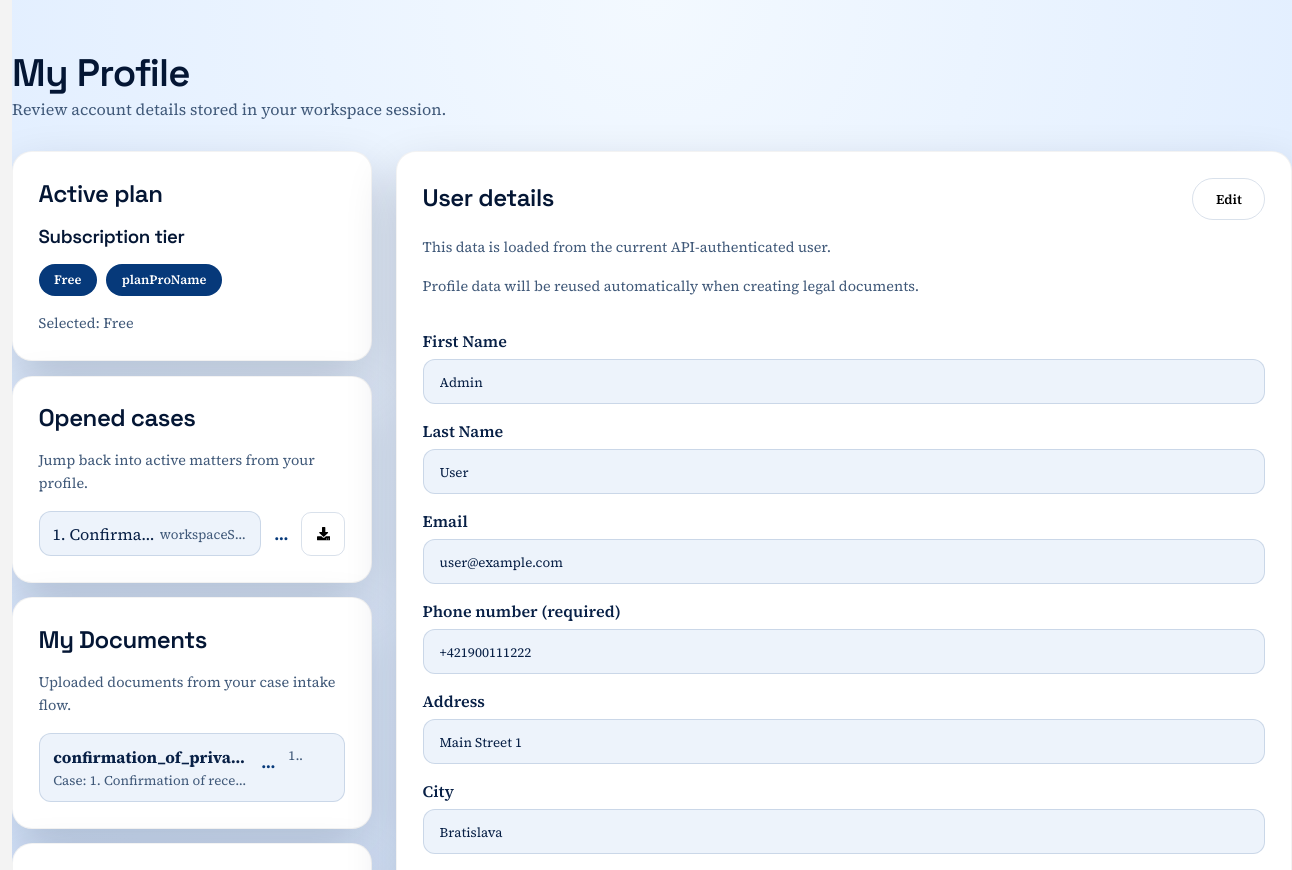
Test: Profile page › downloads a case export without opening the case
The width and height of the screenshot is (1292, 870).
What coordinates should you click on to do the following:
click the button named "Export case"
I would click on:
 (323, 534)
Its box is [301,512,345,556].
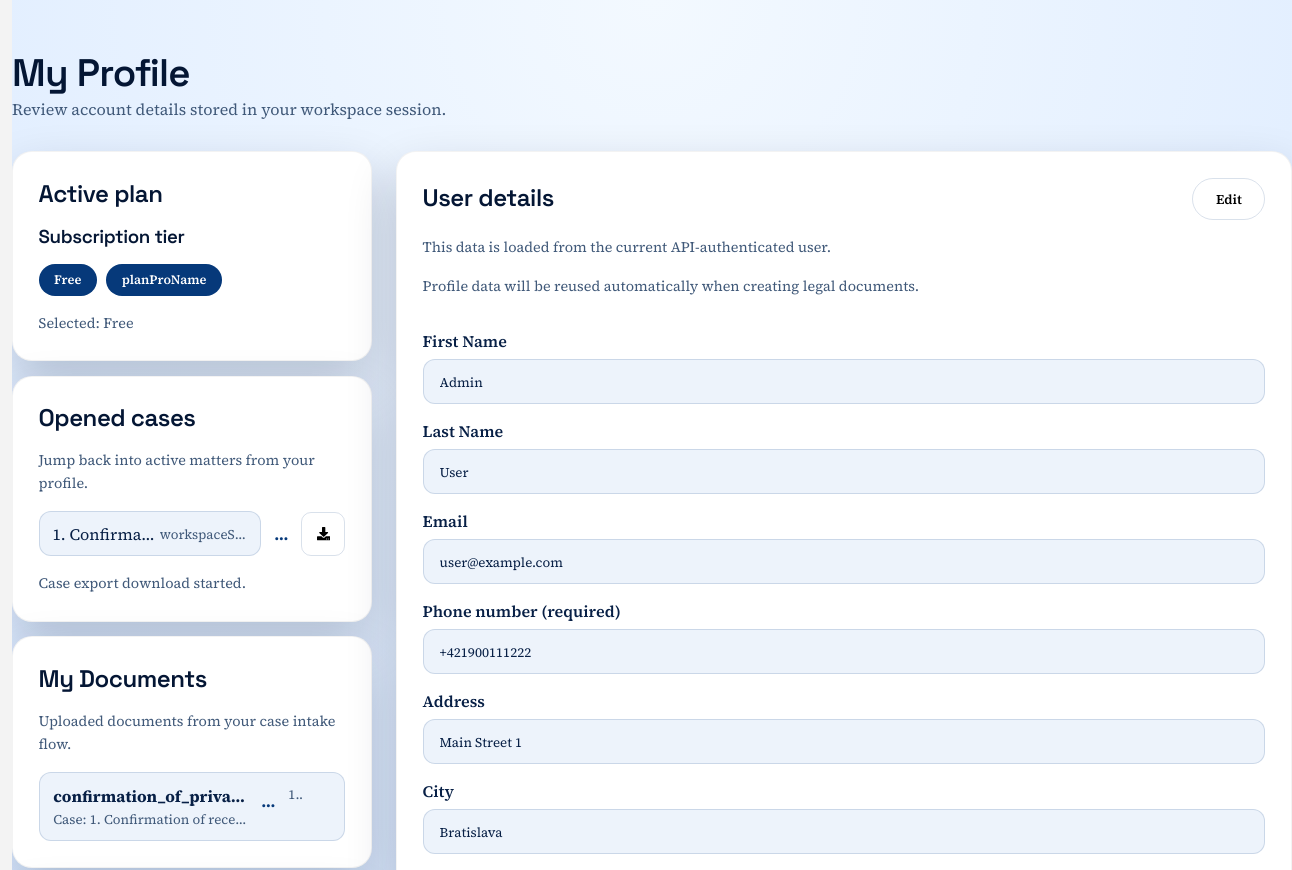
Expected: the message reads "Case export download started.", [39,573,246,593]
